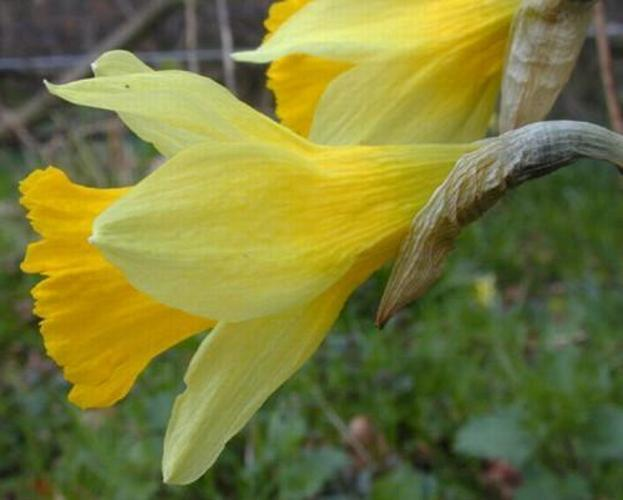flower1: (18, 50, 523, 486)
